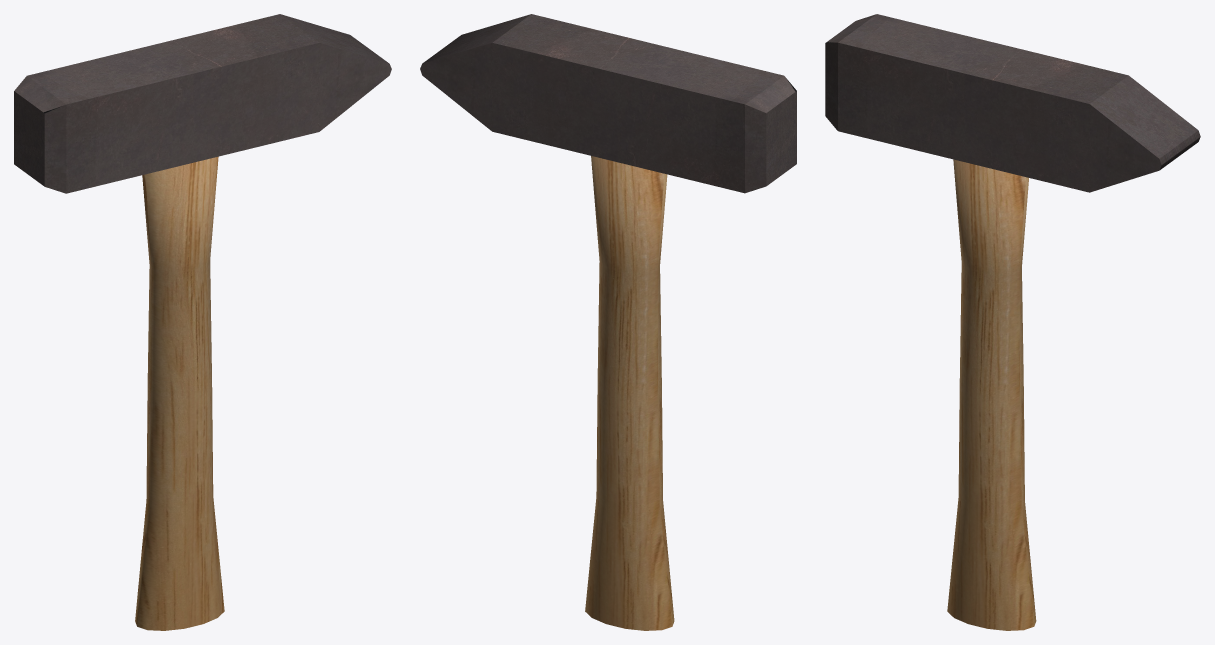
File: 3D_ENVHA_001.FBX
3 views of the same model, side by side, from view 1: azimuth 30°, elevation 25°; view 2: azimuth 150°, elevation 25°; view 3: azimuth 330°, elevation 25° (orthographic).
Visible parts, largest first — view 1: Box001; view 2: Box001; view 3: Box001.
Part boxes in pixels (<box>): Box001: <box>14,14,391,630</box>; Box001: <box>420,14,796,630</box>; Box001: <box>825,14,1200,630</box>.
Size of the model in its own units: 155 by 242 by 30.91.
